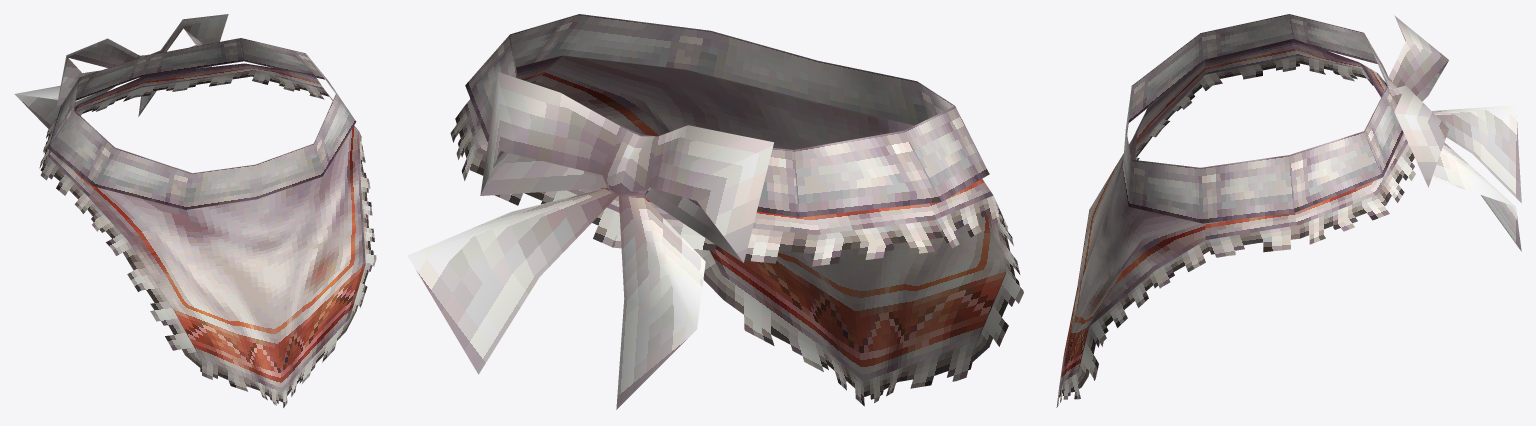
The model's file is f_waist192.obj.
The picture shows the model from 3 angles, left to right: view 1: azimuth 30°, elevation 25°; view 2: azimuth 150°, elevation 25°; view 3: azimuth 270°, elevation 25°; orthographic projection. The views are drawn at different scales.
Parts seen in each view (by area): view 1: mesh00; view 2: mesh00; view 3: mesh00.
Boxes of the visible parts, x1=… form: mesh00: x1=14, y1=14, x2=376, y2=407; mesh00: x1=407, y1=14, x2=1023, y2=409; mesh00: x1=1056, y1=14, x2=1521, y2=407.
Bounding box in the file's own units: 41.45 × 37.25 × 44.83.
1 material, 1 textured.
